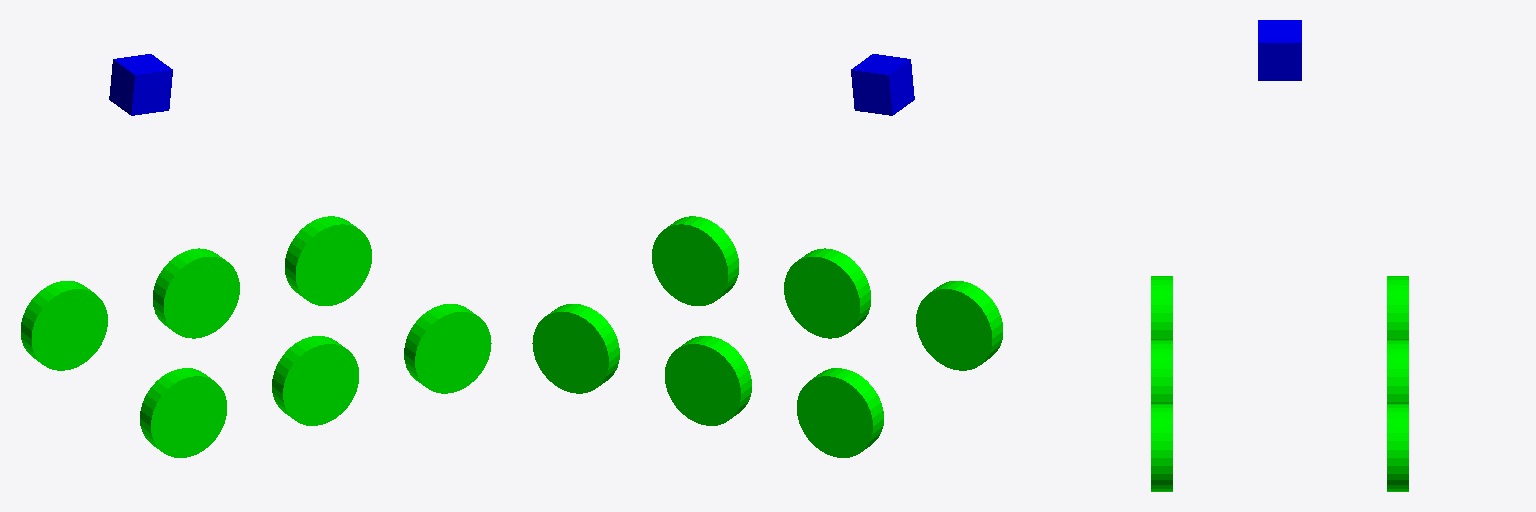
robot.urdf — bosmat_low:
<?xml version="1.0"?>

<robot name="bosmat_low" xmlns:xacro="http://www.ros.org/wiki/xacro">

	<material name="black">
		<color rgba="0 0 0 1"/>
	</material>

	<material name="white">
		<color rgba="1 1 1 1"/>
	</material>

	<material name="red">
		<color rgba="1 0 0 1"/>
	</material>

	<material name="green">
		<color rgba="0 1 0 1"/>
	</material>

	<material name="blue">
		<color rgba="0 0 1 1"/>
	</material>

	<material name="magenta">
		<color rgba="1 0 1 1"/>
	</material>

	<material name="cyan">
		<color rgba="0 1 1 1"/>
	</material>

	<material name="yellow">
		<color rgba="1 1 0 1"/>
	</material>


	<link name="base_link">
		<visual>
			<origin xyz="-0.45 -0.23 -0.05" rpy="1.5707963268 0 1.5707963268" />
			<geometry>
				<mesh filename="package://bosmat_description/meshes/low_detail/robot_base.STL" scale="0.001 0.001 0.001"/>
			</geometry>
			<material name="white"/>
		</visual>

		<collision>
			<origin xyz="-0.45 -0.23 0" rpy="1.5707963268 0 1.5707963268" />
			<geometry>
				<mesh filename="package://bosmat_description/meshes/low_detail/robot_base.STL" scale="0.001 0.001 0.001"/>
			</geometry>
		</collision>
	</link>

	<link name="left_center_wheel">
		<visual>
			<geometry>
				<cylinder length="0.05" radius="0.1"/>
			</geometry>
			<origin rpy="1.5707963268 0 0" xyz="0 0 0"/>
			<material name="green"/>
		</visual>

		<collision>
			<geometry>
				<cylinder length="0.05" radius="0.1"/>
			</geometry>
			<origin rpy="1.5707963268 0 0" xyz="0.23 0 0"/>
		</collision>

		<inertial>
			<mass value="0.5"/>
			<inertia ixx="0.1" iyy="0.1" izz="0.1" ixy="0.0" ixz="0.0" iyz="0.0"/>
		</inertial>
	</link>

	<joint name="left_center_wheel_to_base_link" type="continuous">
		<parent link="base_link"/>
		<child link="left_center_wheel"/>
		<origin xyz="0 0.27 0" rpy="0 0 0"/>
		<axis xyz="0 1 0"/>
	</joint>

    <link name="left_front_wheel">
		<visual>
			<geometry>
				<cylinder length="0.05" radius="0.1"/>
			</geometry>
			<origin rpy="1.5707963268 0 0" xyz="0 0 0"/>
			<material name="green"/>
		</visual>

		<collision>
			<geometry>
				<cylinder length="0.05" radius="0.1"/>
			</geometry>
			<origin rpy="1.5707963268 0 0" xyz="0.23 0 0"/>
		</collision>

		<inertial>
			<mass value="0.5"/>
			<inertia ixx="0.1" iyy="0.1" izz="0.1" ixy="0.0" ixz="0.0" iyz="0.0"/>
		</inertial>
	</link>

    <joint name="left_front_wheel_to_base_link" type="continuous">
		<parent link="base_link"/>
		<child link="left_front_wheel"/>
		<origin xyz="0.345 0.27 0" rpy="0 0 0"/>
		<axis xyz="0 1 0"/>
    </joint>

    <link name="left_back_wheel">
		<visual>
			<geometry>
				<cylinder length="0.05" radius="0.1"/>
			</geometry>
			<origin rpy="1.5707963268 0 0" xyz="0 0 0"/>
			<material name="green"/>
		</visual>

		<collision>
			<geometry>
				<cylinder length="0.05" radius="0.1"/>
			</geometry>
			<origin rpy="1.5707963268 0 0" xyz="0.23 0 0"/>
		</collision>

		<inertial>
			<mass value="0.5"/>
			<inertia ixx="0.1" iyy="0.1" izz="0.1" ixy="0.0" ixz="0.0" iyz="0.0"/>
		</inertial>
	</link>

    <joint name="left_back_wheel_to_base_link" type="continuous">
		<parent link="base_link"/>
		<child link="left_back_wheel"/>
		<origin xyz="-0.345 0.27 0" rpy="0 0 0"/>
		<axis xyz="0 1 0"/>
    </joint>

<link name="right_center_wheel">
		<visual>
			<geometry>
				<cylinder length="0.05" radius="0.1"/>
			</geometry>
			<origin rpy="1.5707963268 0 0" xyz="0 0 0"/>
			<material name="green"/>
		</visual>

		<collision>
			<geometry>
				<cylinder length="0.05" radius="0.1"/>
			</geometry>
			<origin rpy="1.5707963268 0 0" xyz="0.23 0 0"/>
		</collision>

		<inertial>
			<mass value="0.5"/>
			<inertia ixx="0.1" iyy="0.1" izz="0.1" ixy="0.0" ixz="0.0" iyz="0.0"/>
		</inertial>
	</link>

	<joint name="right_center_wheel_to_base_link" type="continuous">
		<parent link="base_link"/>
		<child link="right_center_wheel"/>
		<origin xyz="0 -0.27 0" rpy="0 0 0"/>
		<axis xyz="0 1 0"/>
	</joint>

    <link name="right_front_wheel">
		<visual>
			<geometry>
				<cylinder length="0.05" radius="0.1"/>
			</geometry>
			<origin rpy="1.5707963268 0 0" xyz="0 0 0"/>
			<material name="green"/>
		</visual>

		<collision>
			<geometry>
				<cylinder length="0.05" radius="0.1"/>
			</geometry>
			<origin rpy="1.5707963268 0 0" xyz="0.23 0 0"/>
		</collision>

		<inertial>
			<mass value="0.5"/>
			<inertia ixx="0.1" iyy="0.1" izz="0.1" ixy="0.0" ixz="0.0" iyz="0.0"/>
		</inertial>
	</link>

    <joint name="right_front_wheel_to_base_link" type="continuous">
		<parent link="base_link"/>
		<child link="right_front_wheel"/>
		<origin xyz="0.345 -0.27 0" rpy="0 0 0"/>
		<axis xyz="0 1 0"/>
    </joint>

    <link name="right_back_wheel">
		<visual>
			<geometry>
				<cylinder length="0.05" radius="0.1"/>
			</geometry>
			<origin rpy="1.5707963268 0 0" xyz="0 0 0"/>
			<material name="green"/>
		</visual>

		<collision>
			<geometry>
				<cylinder length="0.05" radius="0.1"/>
			</geometry>
			<origin rpy="1.5707963268 0 0" xyz="0.23 0 0"/>
		</collision>

		<inertial>
			<mass value="0.5"/>
			<inertia ixx="0.1" iyy="0.1" izz="0.1" ixy="0.0" ixz="0.0" iyz="0.0"/>
		</inertial>
	</link>

    <joint name="right_back_wheel_to_base_link" type="continuous">
		<parent link="base_link"/>
		<child link="right_back_wheel"/>
		<origin xyz="-0.345 -0.27 0" rpy="0 0 0"/>
		<axis xyz="0 1 0"/>
    </joint>

	<link name="shiri_body">
		<visual>
			<origin xyz="0 -0.03 0" rpy="1.5707963268 0 1.5707963268" />
			<geometry>
				<mesh filename="package://bosmat_description/meshes/low_detail/shiri_body_low_detail.STL"/>
			</geometry>
			<material name="cyan"/>
		</visual>

		<inertial>
			<mass value="2.0"/>
			<inertia ixx="0.1" iyy="0.1" izz="0.1" ixy="0.0" ixz="0.0" iyz="0.0"/>
		</inertial>
	</link>

    <joint name="shiri_body_to_base_link" type="prismatic">
		<parent link="base_link"/>
		<child link="shiri_body"/>
		<origin xyz="0.35 0 0" rpy="0 0 0"/>
		<limit effort="1000.0" velocity="1.0" lower="-0.2" upper="0"/>
		<axis xyz="1 0 0"/>
    </joint>

	<link name="shiri_left_finger">
		<visual>
			<origin xyz="0.105 -0.03 -0.03" rpy="0 -1.5707963268 0" />
			<geometry>
				<mesh filename="package://bosmat_description/meshes/low_detail/shiri_finger_low_detail.STL"/>
			</geometry>
			<material name="magenta"/>
		</visual>

		<collision>
			<geometry>
				<mesh filename="package://bosmat_description/meshes/low_detail/shiri_finger_low_detail.STL"/>
			</geometry>
			<origin xyz="0.105 -0.03 -0.03" rpy="0 -1.5707963268 0" />
		</collision>

		<inertial>
		  <mass value="0.1"/>
		  <inertia ixx="0.01" iyy="0.01" izz="0.01" ixy="0.0" ixz="0.0" iyz="0.0"/>
		</inertial>
	</link>

    <joint name="shiri_left_finger_to_body" type="prismatic">
		<parent link="shiri_body"/>
		<child link="shiri_left_finger"/>
		<origin xyz="0.18 0.03 0.36" rpy="0 0 0"/>
		<limit effort="1000.0" velocity="1.0" lower="0" upper="0.03"/>
		<axis xyz="0 1 0"/>
    </joint>

	<link name="shiri_right_finger">
		<visual>
			<origin xyz="0.105 -0.03 -0.03" rpy="0 -1.5707963268 0" />
			<geometry>
				<mesh filename="package://bosmat_description/meshes/low_detail/shiri_finger_low_detail.STL"/>
			</geometry>
			<material name="magenta"/>
		</visual>

		<collision>
			<geometry>
				<mesh filename="package://bosmat_description/meshes/low_detail/shiri_finger_low_detail.STL"/>
			</geometry>
			<origin xyz="0.105 -0.03 -0.03" rpy="0 -1.5707963268 0" />
		</collision>

		<inertial>
		  <mass value="0.1"/>
		  <inertia ixx="0.01" iyy="0.01" izz="0.01" ixy="0.0" ixz="0.0" iyz="0.0"/>
		</inertial>
	</link>

    <joint name="shiri_right_finger_to_body" type="prismatic">
		<parent link="shiri_body"/>
		<child link="shiri_right_finger"/>
		<origin xyz="0.18 -0.03 0.36" rpy="3.1415926536 0 0"/>
		<limit effort="1000.0" velocity="1.0" lower="0" upper="0.03"/>
		<axis xyz="0 1 0"/>
    </joint>

	<link name="astra_camera">
		<visual>
			<origin xyz="0 0 0" rpy="-1.5707963268 0 1.5707963268" />
			<geometry>
				<box size="0.1 0.1 0.1"/>
			</geometry>
			<material name="blue"/>
		</visual>

		<inertial>
		  <mass value="0.1"/>
		  <inertia ixx="0.01" iyy="0.01" izz="0.01" ixy="0.0" ixz="0.0" iyz="0.0"/>
		</inertial>
	</link>

    <joint name="astra_camera_to_base_link" type="fixed">
		<parent link="base_link"/>
		<child link="astra_camera"/>
		<origin xyz="-0.3 0 0.7" rpy="-1.6707963268 0 -1.5707963268"/>
    </joint>

<!-- gazebo pluings -->

<!--
<gazebo reference="base_link">
  <mu1>0.5</mu1>
  <mu2>0.5</mu2>
  <material>Gazebo/White</material>
</gazebo>

<gazebo reference="left_back_wheel">
  <mu1>1</mu1>
  <mu2>1</mu2>
  <kp>100.0</kp>
  <kd>100.0</kd>
  <minDepth>0.001</minDepth>
  <maxVel>1</maxVel>
  <material>Gazebo/Black</material>
</gazebo>

<gazebo reference="left_center_wheel">
  <mu1>1</mu1>
  <mu2>1</mu2>
  <kp>100.0</kp>
  <kd>100.0</kd>
  <minDepth>0.001</minDepth>
  <maxVel>1</maxVel>
  <material>Gazebo/Black</material>
</gazebo>

<gazebo reference="left_front_wheel">
  <mu1>1</mu1>
  <mu2>1</mu2>
  <kp>100.0</kp>
  <kd>100.0</kd>
  <minDepth>0.001</minDepth>
  <maxVel>1</maxVel>
  <material>Gazebo/Black</material>
</gazebo>

<gazebo reference="right_front_wheel">
  <mu1>1</mu1>
  <mu2>1</mu2>
  <kp>100.0</kp>
  <kd>100.0</kd>
  <minDepth>0.001</minDepth>
  <maxVel>1</maxVel>
  <material>Gazebo/Black</material>
</gazebo>

<gazebo reference="right_center_wheel">
  <mu1>1</mu1>
  <mu2>1</mu2>
  <kp>100.0</kp>
  <kd>100.0</kd>
  <minDepth>0.001</minDepth>
  <maxVel>1</maxVel>
  <material>Gazebo/Black</material>
</gazebo>

<gazebo reference="right_back_wheel">
  <mu1>1</mu1>
  <mu2>1</mu2>
  <kp>100.0</kp>
  <kd>100.0</kd>
  <minDepth>0.001</minDepth>
  <maxVel>1</maxVel>
  <material>Gazebo/Black</material>
</gazebo> 

<gazebo reference="left_back_wheel_to_base_link">
  <mu1>1</mu1>
  <mu2>1</mu2>
  <kp>100.0</kp>
  <kd>100.0</kd>
  <minDepth>0.001</minDepth>
  <maxVel>1</maxVel>
  <material>Gazebo/Black</material>
</gazebo>

<gazebo reference="left_center_wheel_to_base_link">
  <mu1>1</mu1>
  <mu2>1</mu2>
  <kp>100.0</kp>
  <kd>100.0</kd>
  <minDepth>0.001</minDepth>
  <maxVel>1</maxVel>
  <material>Gazebo/Black</material>
</gazebo>

<gazebo reference="left_front_wheel_to_base_link">
  <mu1>1</mu1>
  <mu2>1</mu2>
  <kp>100.0</kp>
  <kd>100.0</kd>
  <minDepth>0.001</minDepth>
  <maxVel>1</maxVel>
  <material>Gazebo/Black</material>
</gazebo>

<gazebo reference="right_front_wheel_to_base_link">
  <mu1>1</mu1>
  <mu2>1</mu2>
  <kp>100.0</kp>
  <kd>100.0</kd>
  <minDepth>0.001</minDepth>
  <maxVel>1</maxVel>
  <material>Gazebo/Black</material>
</gazebo>

<gazebo reference="right_center_wheel_to_base_link">
  <mu1>1</mu1>
  <mu2>1</mu2>
  <kp>100.0</kp>
  <kd>100.0</kd>
  <minDepth>0.001</minDepth>
  <maxVel>1</maxVel>
  <material>Gazebo/Black</material>
</gazebo>

<gazebo reference="right_back_wheel_to_base_link">
  <mu1>1</mu1>
  <mu2>1</mu2>
  <kp>100.0</kp>
  <kd>100.0</kd>
  <minDepth>0.001</minDepth>
  <maxVel>1</maxVel>
  <material>Gazebo/Black</material>
</gazebo>

-->

<gazebo>
  <plugin name="center_differential_drive_controller" filename="libgazebo_ros_diff_drive.so">
    <legacyMode>false</legacyMode>
    <publishTf>1</publishTf>
    <publishWheelTF>true</publishWheelTF>
    <publishWheelJointState>true</publishWheelJointState>
    <alwaysOn>true</alwaysOn>
    <updateRate>50</updateRate>
    <leftJoint>left_center_wheel_to_base_link </leftJoint>
    <rightJoint>right_center_wheel_to_base_link</rightJoint>
    <wheelSeparation>0.52</wheelSeparation>
    <wheelDiameter>0.1</wheelDiameter>
    <wheelTorque>10</wheelTorque>
    <wheelAcceleration>3</wheelAcceleration>
    <commandTopic>/cmd_vel</commandTopic>
    <odometryTopic>/odom</odometryTopic>
    <odometryFrame>/odom</odometryFrame>
    <robotBaseFrame>base_link</robotBaseFrame>
  </plugin>

</gazebo>
<!-- <gazebo>
  <plugin name="front_differential_drive_controller" filename="libgazebo_ros_diff_drive.so">
    <legacyMode>false</legacyMode>
    <publishTf>1</publishTf>
    <publishWheelTF>true</publishWheelTF>
    <publishWheelJointState>true</publishWheelJointState>
    <alwaysOn>true</alwaysOn>
    <updateRate>50</updateRate>
    <leftJoint>left_front_wheel_to_base_link </leftJoint>
    <rightJoint>right_front_wheel_to_base_link</rightJoint>
    <wheelSeparation>0.52</wheelSeparation>
    <wheelDiameter>0.1</wheelDiameter>
    <wheelTorque>1</wheelTorque>
    <wheelAcceleration>3</wheelAcceleration>
    <commandTopic>/cmd_vel</commandTopic>
    <odometryTopic>/odom</odometryTopic>
    <odometryFrame>/odom</odometryFrame>
    <robotBaseFrame>base_link</robotBaseFrame>
    </plugin>

</gazebo> 
<gazebo>
  <plugin name="back_differential_drive_controller" filename="libgazebo_ros_diff_drive.so">
    <legacyMode>false</legacyMode>
    <publishTf>1</publishTf>
    <publishWheelTF>true</publishWheelTF>
    <publishWheelJointState>true</publishWheelJointState>
    <alwaysOn>true</alwaysOn>
    <updateRate>50</updateRate>
    <leftJoint>left_back_wheel_to_base_link </leftJoint>
    <rightJoint>right_back_wheel_to_base_link</rightJoint>
    <wheelSeparation>0.52</wheelSeparation>
    <wheelDiameter>0.1</wheelDiameter>
    <wheelTorque>10</wheelTorque>
    <wheelAcceleration>3</wheelAcceleration>
    <commandTopic>/cmd_vel</commandTopic>
    <odometryTopic>/odom</odometryTopic>
    <odometryFrame>/odom</odometryFrame>
    <robotBaseFrame>base_link</robotBaseFrame>
  </plugin>
</gazebo>

-->



</robot>

--- What the picture shows (computed from the rendered views, not written in the file) ---
The picture shows the robot from 3 angles, left to right: view 1: azimuth 30°, elevation 25°; view 2: azimuth 150°, elevation 25°; view 3: azimuth 270°, elevation 25°; orthographic projection.
Model bosmat_low with 11 links and 10 joints (6 continuous, 3 prismatic, 1 fixed), rooted at base_link, posed every joint at zero.
Links seen in each view (by area): view 1: right_center_wheel, left_front_wheel, right_front_wheel, left_back_wheel, right_back_wheel, left_center_wheel, astra_camera; view 2: left_center_wheel, right_front_wheel, left_front_wheel, right_back_wheel, left_back_wheel, right_center_wheel, astra_camera; view 3: astra_camera, left_front_wheel, right_front_wheel, left_center_wheel, left_back_wheel, right_center_wheel, right_back_wheel.
Link boxes in pixels (x1,y1,x2,y2): right_center_wheel: [272, 336, 358, 425]; left_front_wheel: [285, 216, 371, 305]; right_front_wheel: [404, 304, 491, 393]; left_back_wheel: [21, 281, 107, 370]; right_back_wheel: [140, 368, 226, 457]; left_center_wheel: [153, 248, 239, 338]; astra_camera: [109, 54, 172, 115]; left_center_wheel: [665, 336, 751, 425]; right_front_wheel: [652, 216, 738, 305]; left_front_wheel: [532, 304, 619, 393]; right_back_wheel: [916, 281, 1002, 370]; left_back_wheel: [797, 368, 883, 457]; right_center_wheel: [784, 248, 870, 338]; astra_camera: [851, 54, 914, 115]; astra_camera: [1258, 20, 1301, 80]; left_front_wheel: [1387, 404, 1408, 491]; right_front_wheel: [1151, 404, 1172, 491]; left_center_wheel: [1387, 340, 1408, 403]; left_back_wheel: [1387, 276, 1408, 339]; right_center_wheel: [1151, 340, 1172, 403]; right_back_wheel: [1151, 276, 1172, 339].
Bounding box of the posed robot: 0.89 × 0.59 × 0.8547 m (x, y, z).
0 mesh visuals loaded from 3 distinct referenced files (none loaded); not drawn: 4 (reference not matched to a file when rendering).
